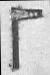R8: (4, 0, 46, 74)
